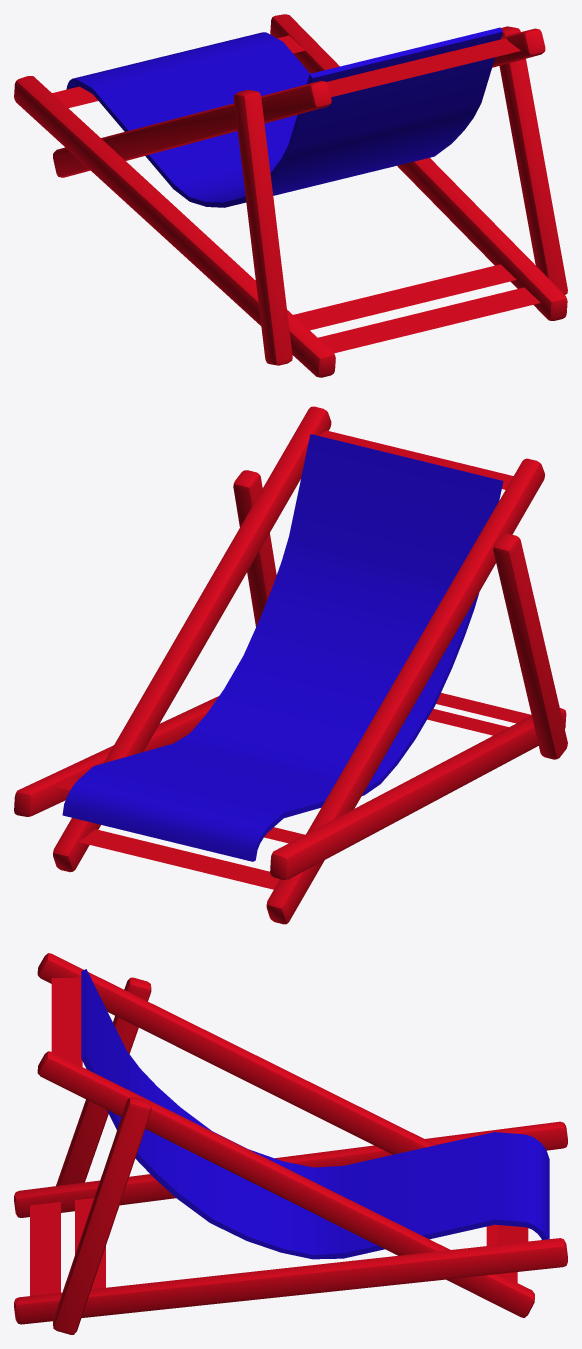
File: F_Sunlounger_01.fbx
3 renders of one model, top to bottom at view 1: azimuth 30°, elevation 25°; view 2: azimuth 150°, elevation 25°; view 3: azimuth 270°, elevation 25°, orthographic. The views are drawn at different scales.
Parts seen in each view (by area): view 1: Cube.001; view 2: Cube.001; view 3: Cube.001.
Part boxes in pixels (left/top/right/bottom): Cube.001: left=14, top=14, right=567, bottom=377; Cube.001: left=14, top=406, right=567, bottom=924; Cube.001: left=14, top=953, right=567, bottom=1334.
Size of the model in its own units: 113 by 103 by 196.
